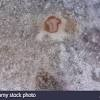rust: (37, 13, 67, 36)
